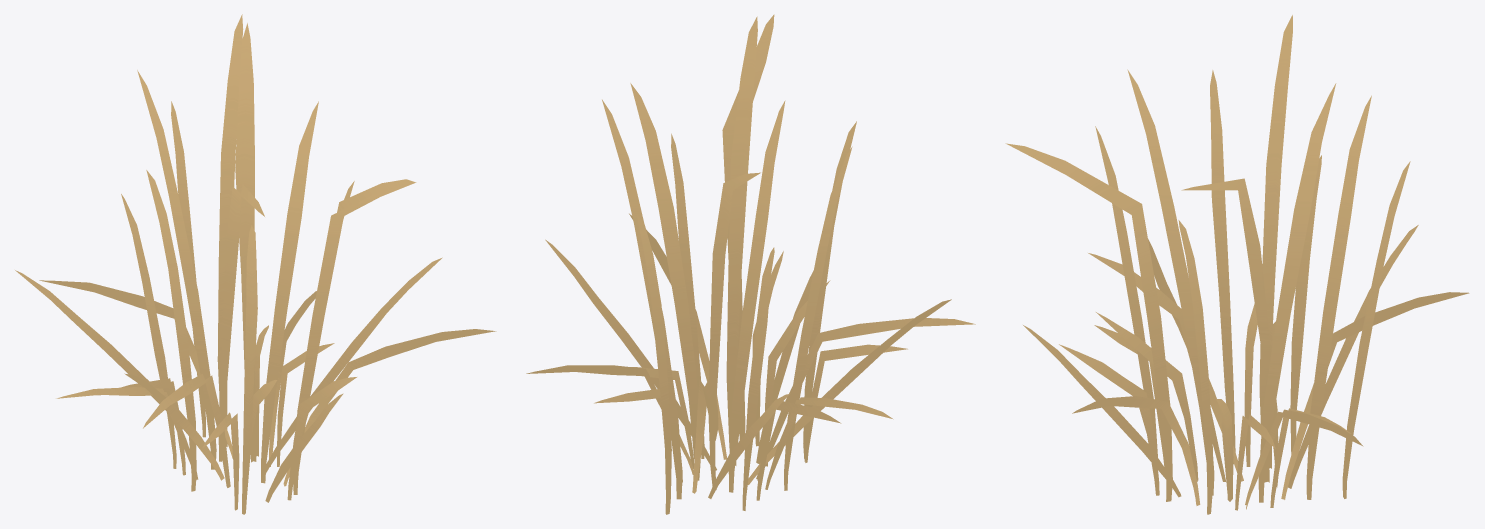
Rendered from DesertGrass_Wispy_Tall.obj.
3 renders of one model, left to right at view 1: azimuth 30°, elevation 25°; view 2: azimuth 150°, elevation 25°; view 3: azimuth 270°, elevation 25°, orthographic. The views are drawn at different scales.
Parts seen in each view (by area): view 1: DesertGrass_Wispy_Tall; view 2: DesertGrass_Wispy_Tall; view 3: DesertGrass_Wispy_Tall.
Part boxes in pixels (bbox=[...]): DesertGrass_Wispy_Tall: bbox=[15, 14, 496, 514]; DesertGrass_Wispy_Tall: bbox=[526, 14, 975, 514]; DesertGrass_Wispy_Tall: bbox=[1005, 15, 1469, 514].
Size of the model in its own units: 1.54 by 1.67 by 1.59.
1 material, 1 textured.
